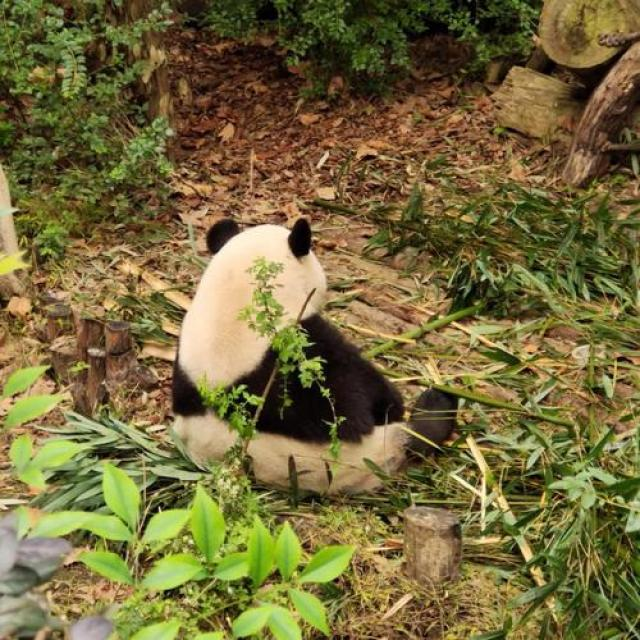panda: (142, 198, 498, 586)
